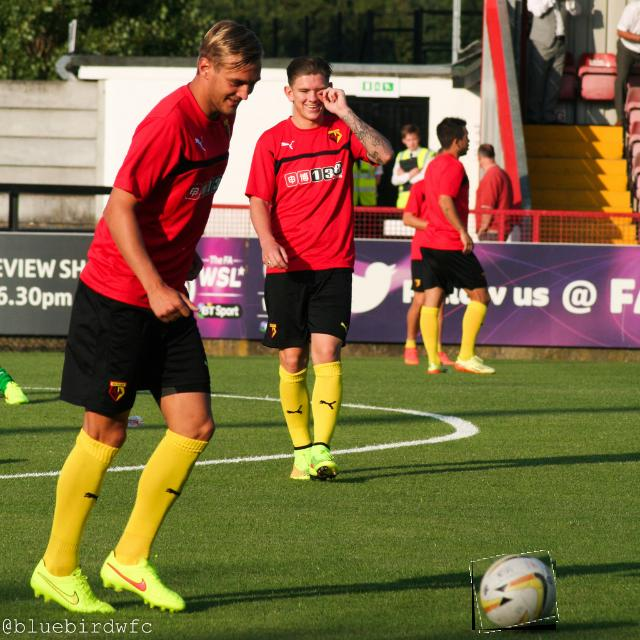Football: (472, 554, 556, 630)
